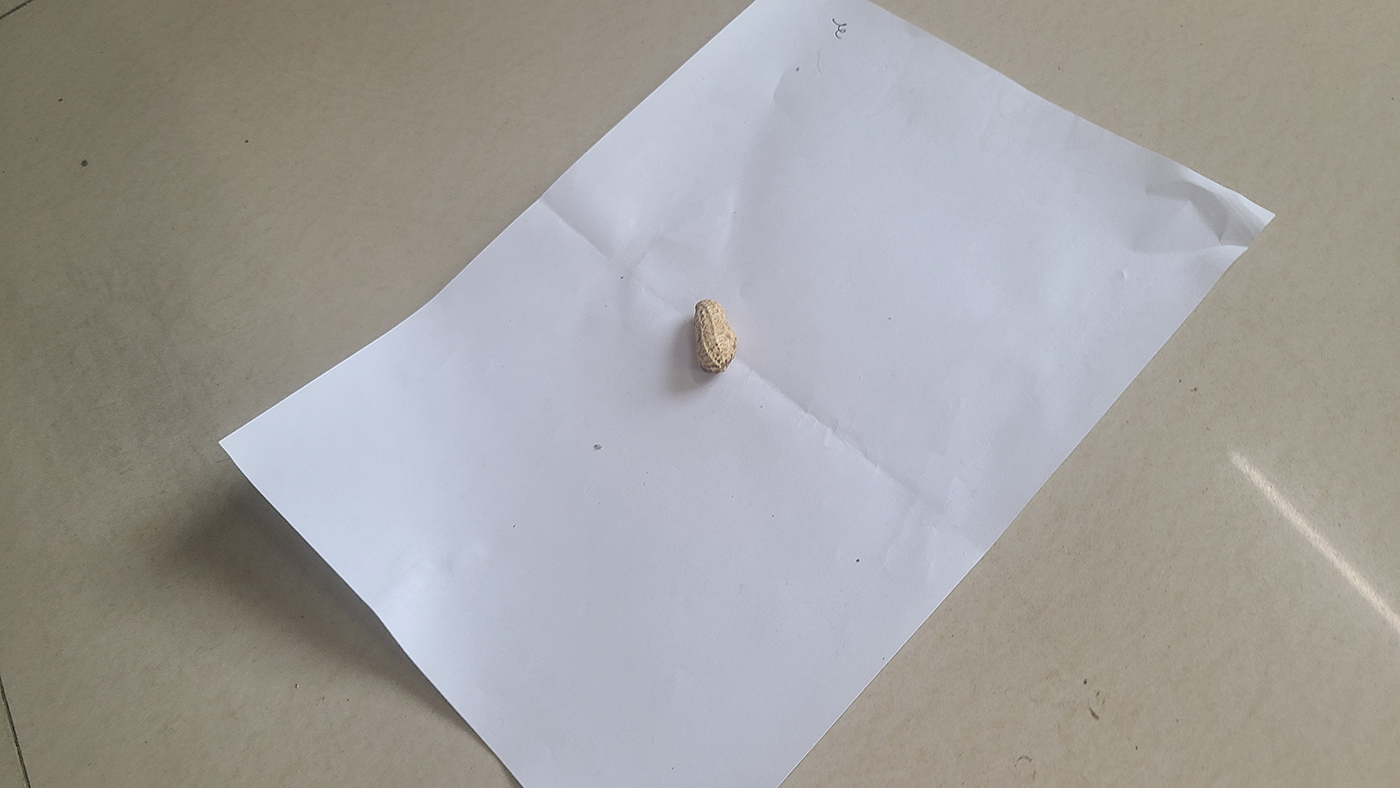h: (692, 298, 737, 373)
